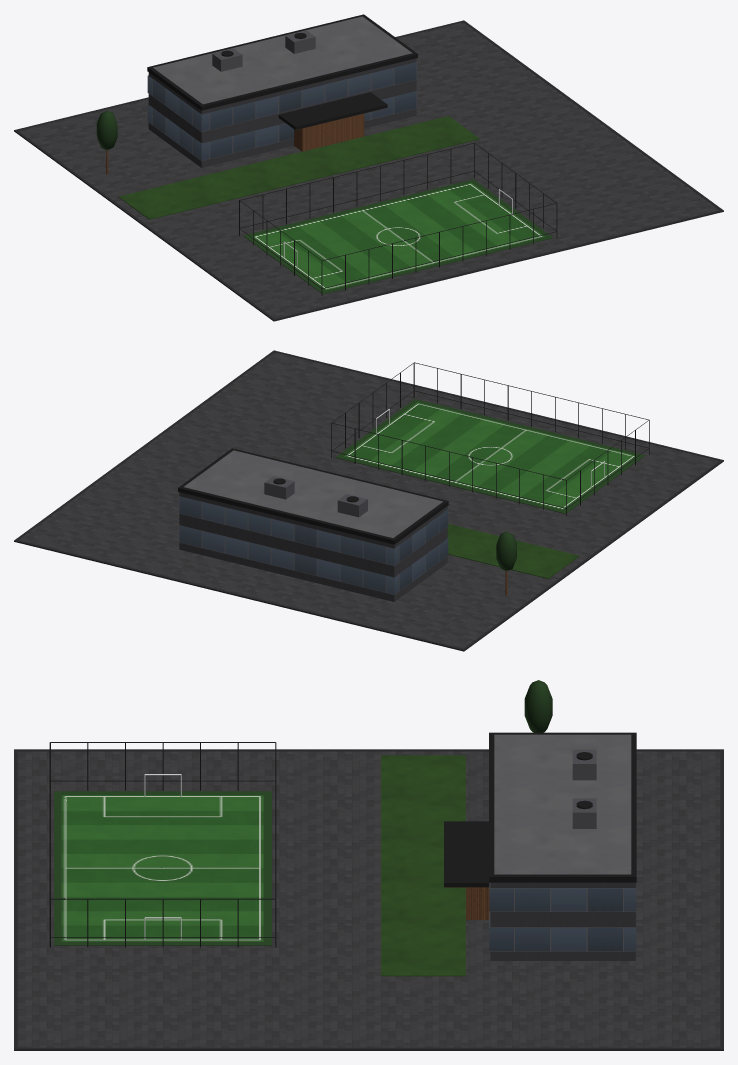
Rendered from academy_L1.glb.
3 renders of one model, top to bottom at view 1: azimuth 30°, elevation 25°; view 2: azimuth 150°, elevation 25°; view 3: azimuth 270°, elevation 25°, orthographic. The views are drawn at different scales.
Visible parts, largest first — view 1: paving_academy_L1, turf_cage_academy_L1, lawn_academy_L1, roofing_academy_L1, emissive_curtain_academy_L1, black_metal_academy_L1, cladding_academy_L1, concrete_dark_academy_L1, wood_academy_L1, steel_academy_L1, foliage_academy_L1; view 2: paving_academy_L1, turf_cage_academy_L1, emissive_curtain_academy_L1, roofing_academy_L1, cladding_academy_L1, black_metal_academy_L1, concrete_dark_academy_L1, lawn_academy_L1, steel_academy_L1, foliage_academy_L1; view 3: paving_academy_L1, turf_cage_academy_L1, roofing_academy_L1, lawn_academy_L1, black_metal_academy_L1, emissive_curtain_academy_L1, concrete_dark_academy_L1, cladding_academy_L1, steel_academy_L1, foliage_academy_L1, wood_academy_L1.
Boxes of the visible parts, x1=… form: paving_academy_L1: x1=18, y1=22, x2=719, y2=318; turf_cage_academy_L1: x1=243, y1=179, x2=552, y2=294; lawn_academy_L1: x1=118, y1=116, x2=479, y2=219; roofing_academy_L1: x1=153, y1=16, x2=412, y2=104; emissive_curtain_academy_L1: x1=147, y1=62, x2=417, y2=161; black_metal_academy_L1: x1=147, y1=14, x2=557, y2=295; cladding_academy_L1: x1=148, y1=58, x2=416, y2=167; concrete_dark_academy_L1: x1=14, y1=20, x2=723, y2=321; wood_academy_L1: x1=106, y1=108, x2=384, y2=174; steel_academy_L1: x1=212, y1=30, x2=315, y2=71; foliage_academy_L1: x1=96, y1=110, x2=117, y2=150; paving_academy_L1: x1=18, y1=352, x2=719, y2=648; turf_cage_academy_L1: x1=335, y1=399, x2=645, y2=513; emissive_curtain_academy_L1: x1=178, y1=496, x2=448, y2=594; roofing_academy_L1: x1=184, y1=450, x2=442, y2=538; cladding_academy_L1: x1=179, y1=492, x2=447, y2=601; black_metal_academy_L1: x1=178, y1=362, x2=649, y2=544; concrete_dark_academy_L1: x1=14, y1=350, x2=723, y2=651; lawn_academy_L1: x1=447, y1=524, x2=579, y2=578; steel_academy_L1: x1=264, y1=476, x2=367, y2=517; foliage_academy_L1: x1=496, y1=531, x2=516, y2=570; paving_academy_L1: x1=17, y1=751, x2=720, y2=1047; turf_cage_academy_L1: x1=54, y1=791, x2=271, y2=945; roofing_academy_L1: x1=494, y1=734, x2=631, y2=874; lawn_academy_L1: x1=381, y1=755, x2=465, y2=976; black_metal_academy_L1: x1=49, y1=732, x2=636, y2=947; emissive_curtain_academy_L1: x1=489, y1=882, x2=636, y2=951; concrete_dark_academy_L1: x1=14, y1=749, x2=723, y2=1050; cladding_academy_L1: x1=490, y1=882, x2=635, y2=960; steel_academy_L1: x1=572, y1=749, x2=596, y2=828; foliage_academy_L1: x1=524, y1=680, x2=552, y2=732; wood_academy_L1: x1=445, y1=887, x2=489, y2=919.
Bounding box in the file's own units: 58.6 × 9.44 × 58.6.
Materials: 12 (7 with a texture image).
